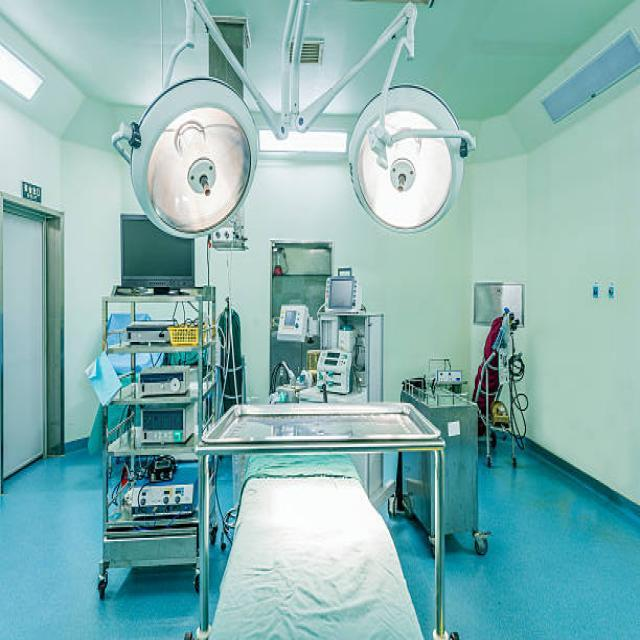tools_table: (191, 381, 465, 640)
